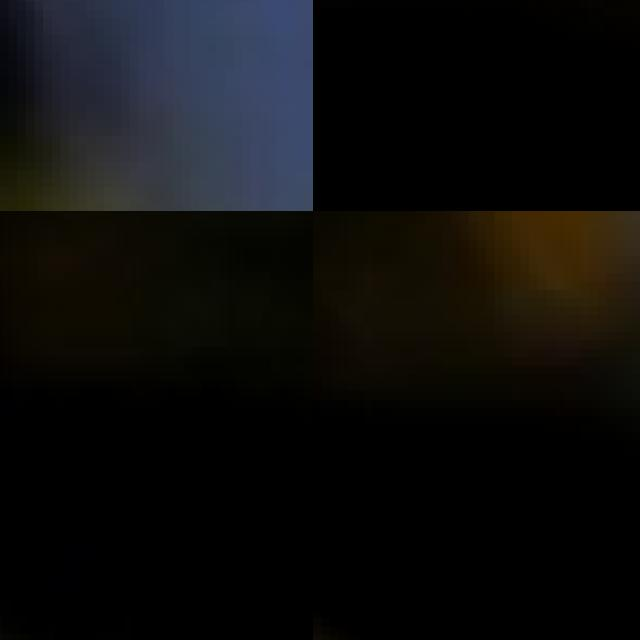fish: (0, 0, 313, 211), (330, 211, 640, 416)
